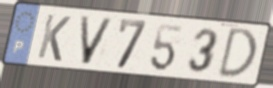3: (187, 27, 220, 75)
5: (149, 22, 186, 72)
7: (116, 17, 150, 71)
D: (215, 26, 259, 80)
K: (35, 12, 73, 64)
V: (78, 14, 116, 67)
